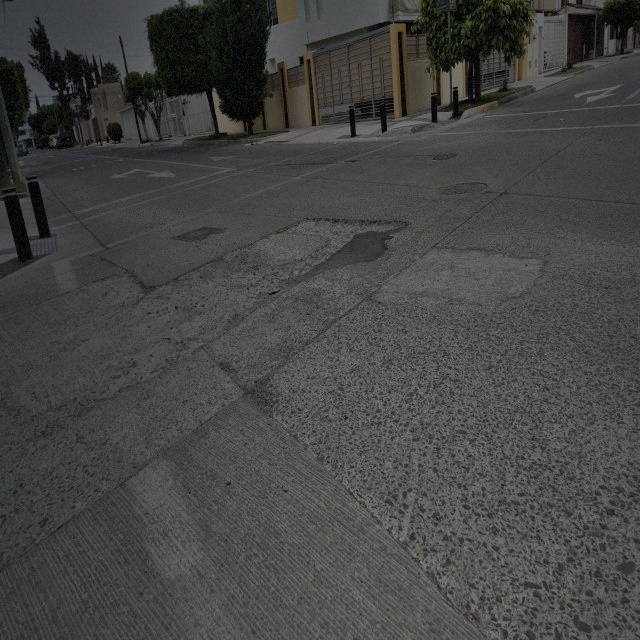pothole: (124, 232, 276, 396), (311, 213, 408, 269), (86, 271, 150, 303)
